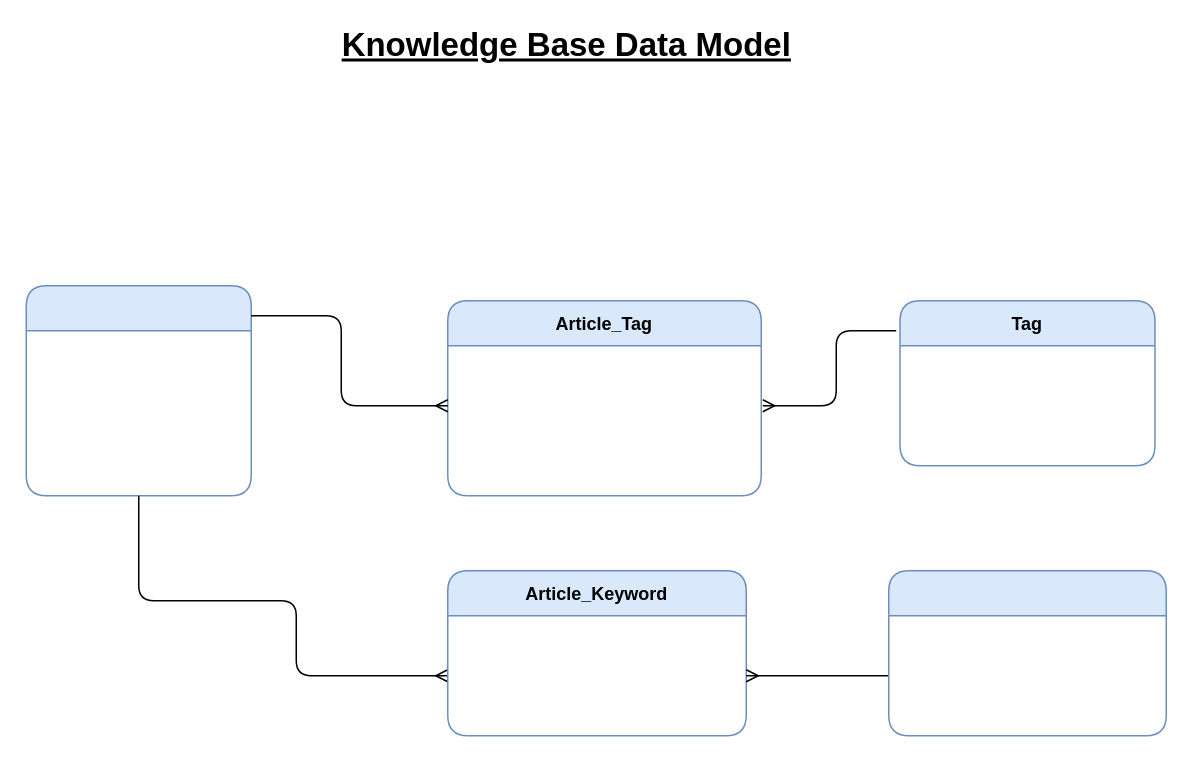
Some shapes in this 1193 by 762 pixel diagram are drawn without their labels. Each missing label, with the box of its shape:
Article: (25, 284, 251, 496)
Keyword: (887, 569, 1166, 736)
